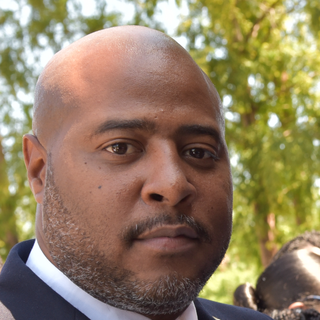eye: (93, 134, 147, 161), (177, 140, 220, 168)
